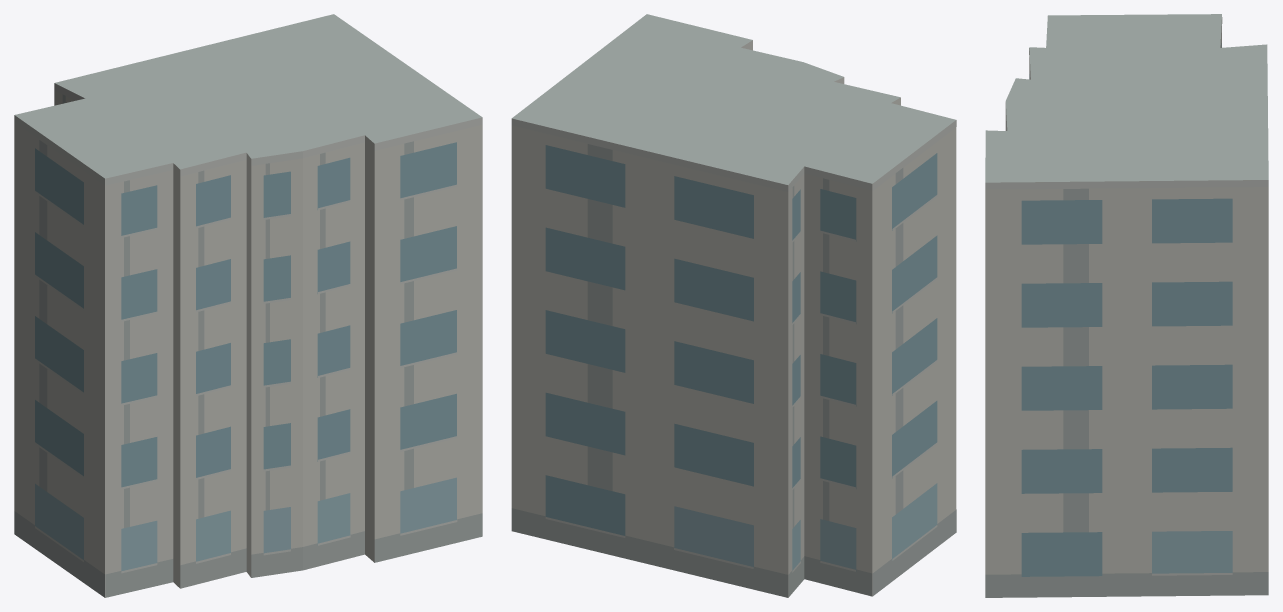
The model's file is survey-upis-32927707.glb.
3 renders of one model, left to right at view 1: azimuth 30°, elevation 25°; view 2: azimuth 150°, elevation 25°; view 3: azimuth 270°, elevation 25°, orthographic.
Parts seen in each view (by area): view 1: survey-upis-32927707.tmp; view 2: survey-upis-32927707.tmp; view 3: survey-upis-32927707.tmp.
Boxes of the visible parts, left/top/right/bottom form: survey-upis-32927707.tmp: left=14, top=14, right=482, bottom=597; survey-upis-32927707.tmp: left=511, top=14, right=956, bottom=597; survey-upis-32927707.tmp: left=985, top=14, right=1268, bottom=597.
Size of the model in its own units: 12.37 by 14.2 by 8.8.
